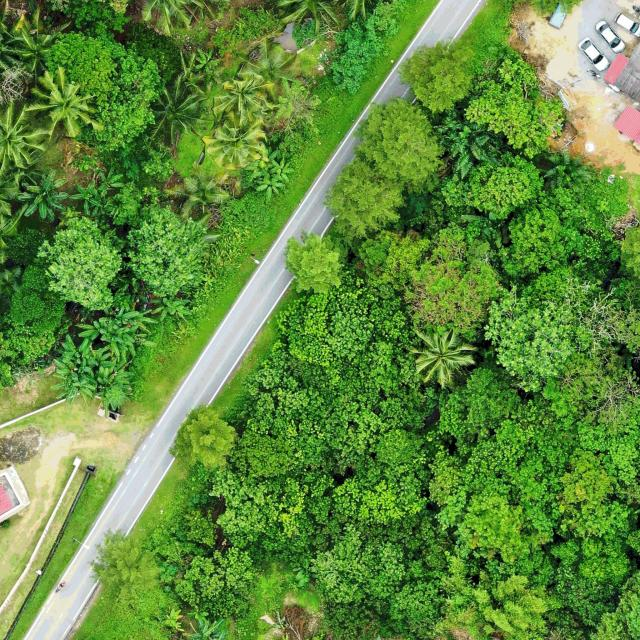Tree: (44, 31, 159, 156), (404, 219, 506, 337), (463, 56, 563, 160), (480, 293, 580, 397), (353, 95, 444, 195), (125, 203, 218, 298), (37, 212, 127, 310), (498, 188, 588, 283), (321, 157, 409, 240), (432, 158, 544, 221), (88, 526, 166, 608), (398, 39, 476, 114), (24, 65, 103, 139), (356, 228, 432, 300), (168, 402, 238, 470), (406, 321, 477, 388), (521, 263, 609, 312), (284, 227, 346, 293), (206, 107, 266, 168), (0, 102, 47, 176), (150, 79, 202, 144), (234, 34, 300, 84), (16, 167, 74, 222), (165, 170, 231, 218), (214, 74, 274, 115), (51, 357, 97, 407), (56, 334, 100, 375), (101, 324, 145, 361), (94, 366, 136, 398), (115, 306, 158, 336), (71, 180, 104, 215), (75, 318, 119, 341), (149, 298, 193, 320), (190, 46, 225, 72), (94, 167, 125, 196), (256, 174, 284, 200), (268, 158, 294, 183)
